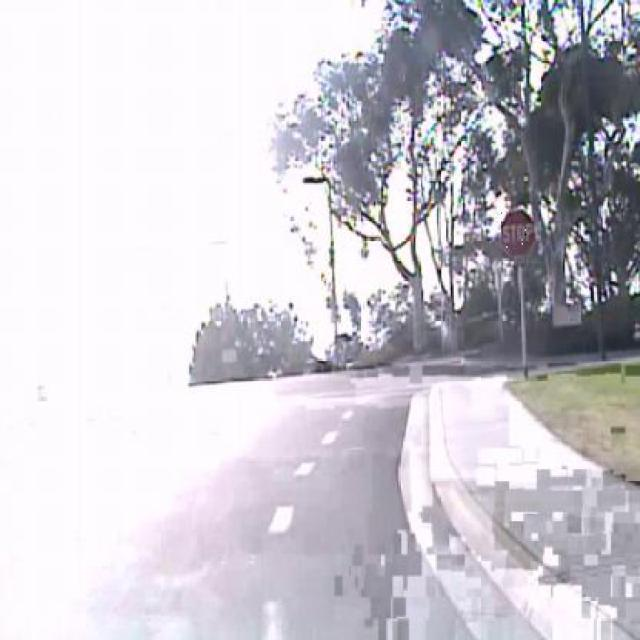stop: (500, 208, 535, 258)
